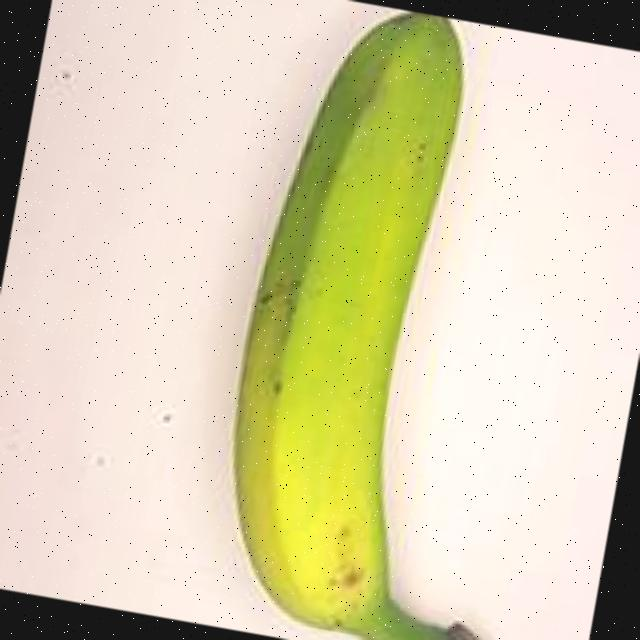Unripe: (170, 0, 612, 640)
